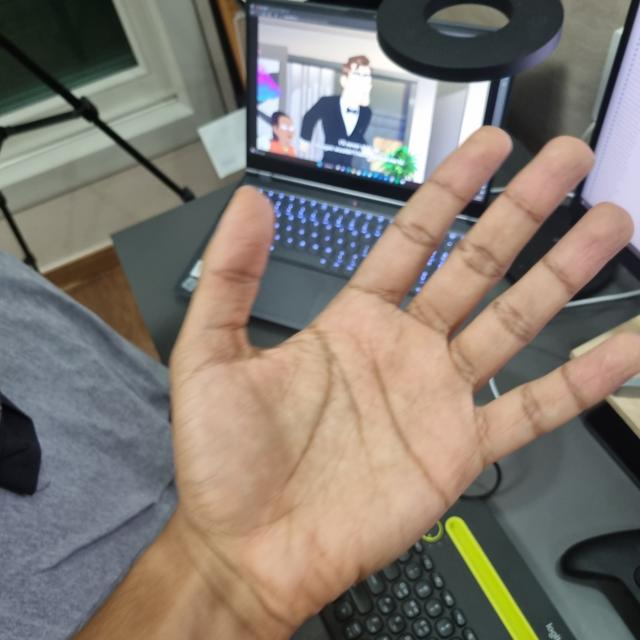Paper: (166, 127, 640, 617)
